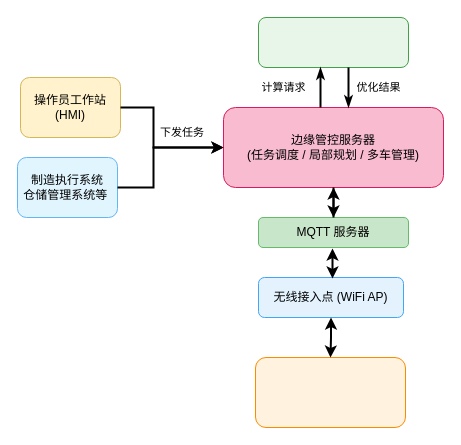
Some shapes in this 461 by 445 pixel diagram are drawn without their labels. The shapes that lost their labels are listed below. From the top down, each one's centre as x and y in pixels, then its label:
At point (333, 42): "路径优化云服务 (全局规划 / 优化算法)".
At point (330, 392): "移动机器人设备 动模块".
